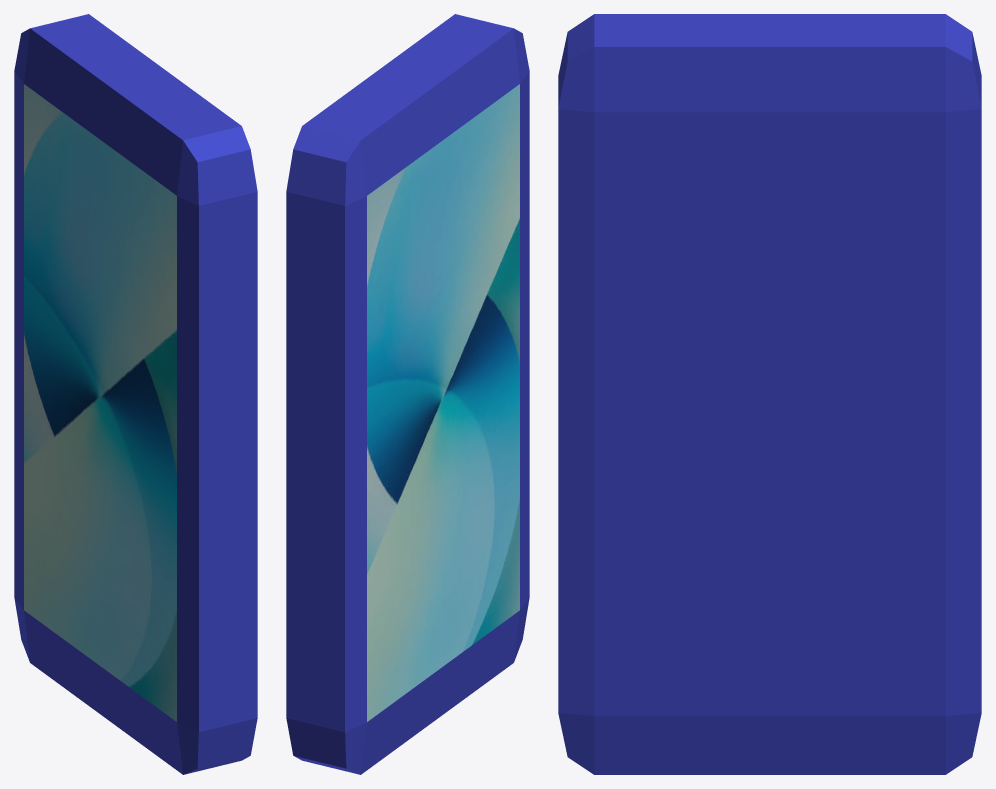
Rendered from telefon.glb.
The picture shows the model from 3 angles, left to right: view 1: azimuth 30°, elevation 25°; view 2: azimuth 150°, elevation 25°; view 3: azimuth 270°, elevation 25°; orthographic projection. The views are drawn at different scales.
Parts seen in each view (by area): view 1: Cube; view 2: Cube; view 3: Cube.
Part boxes in pixels (left/top/right/bottom): Cube: left=14, top=14, right=257, bottom=774; Cube: left=286, top=14, right=529, bottom=774; Cube: left=558, top=14, right=981, bottom=774.
Size of the model in its own units: 0.4433 by 3.79 by 2.
Materials: 1 (1 with a texture image).
